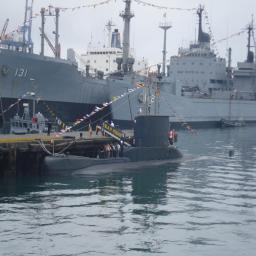submarine: (46, 114, 181, 184)
